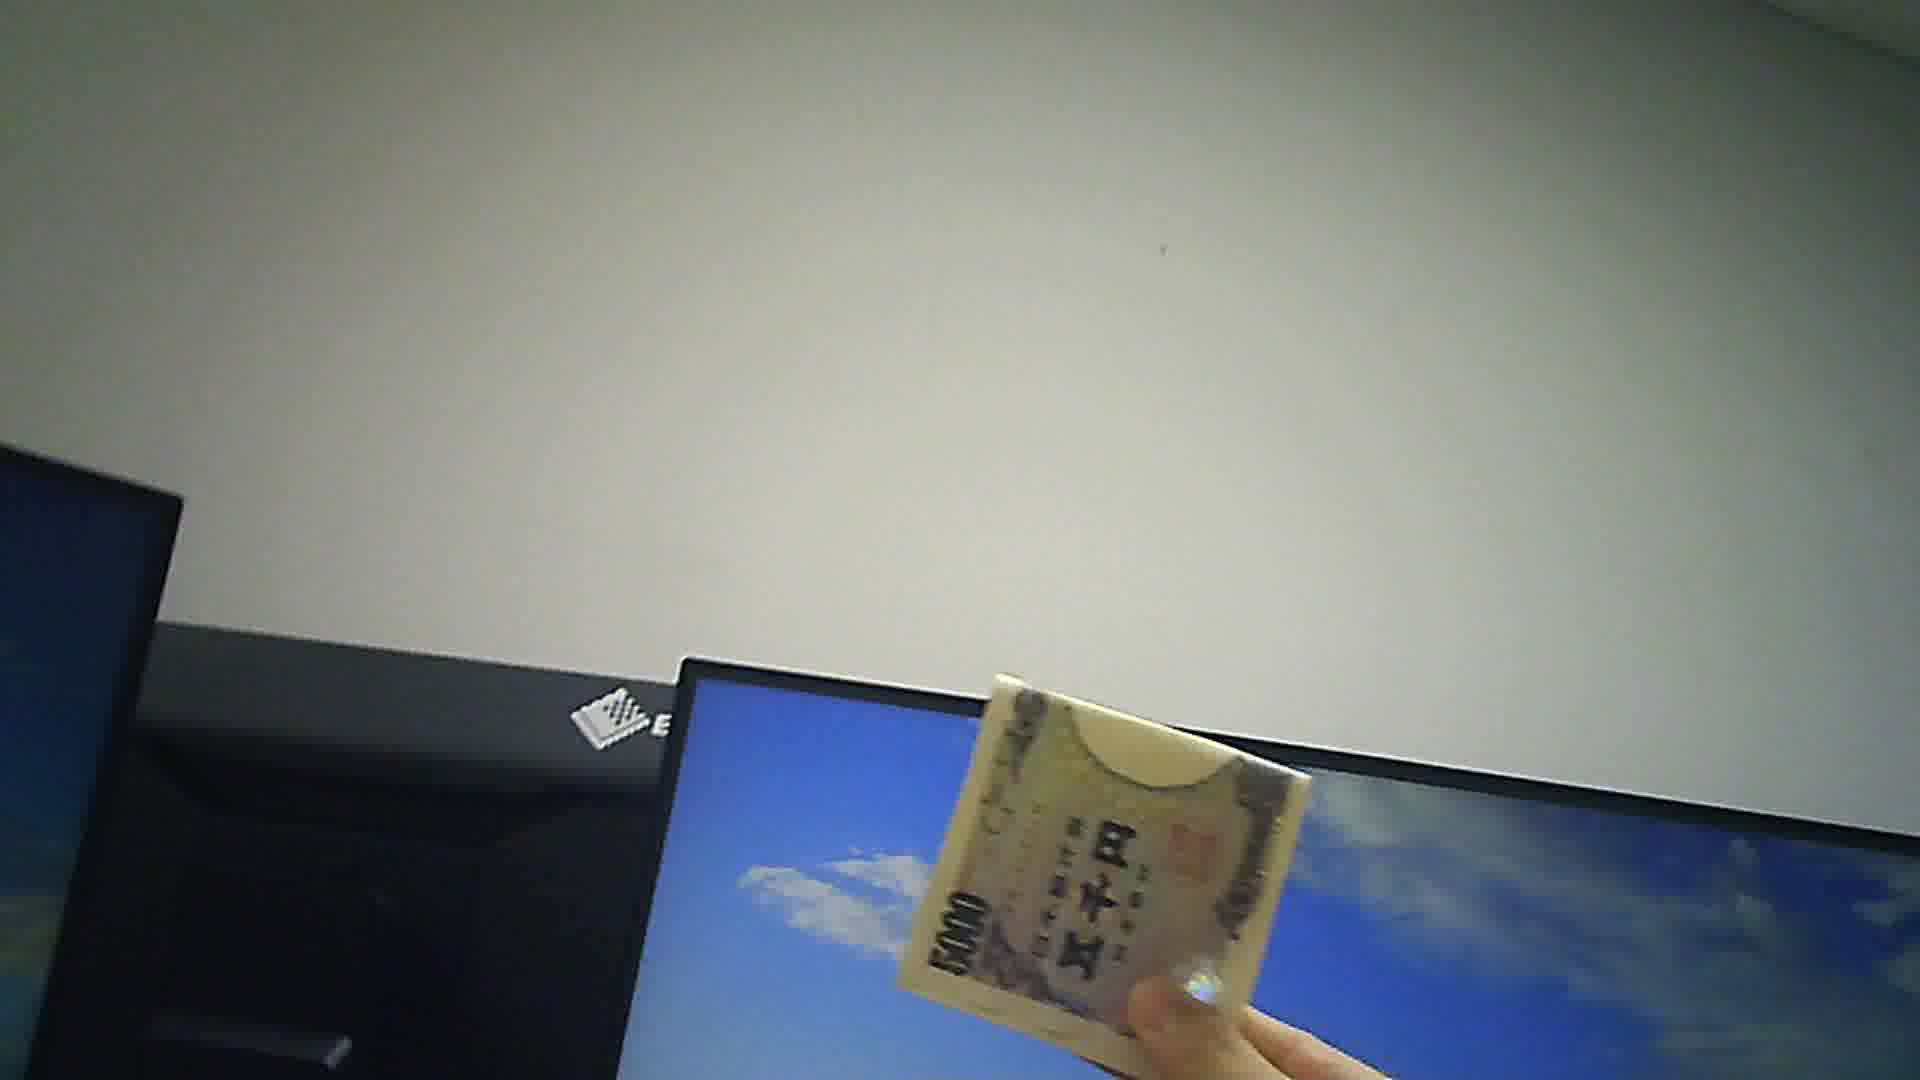5,000 Yen: (913, 665, 1308, 1073)
